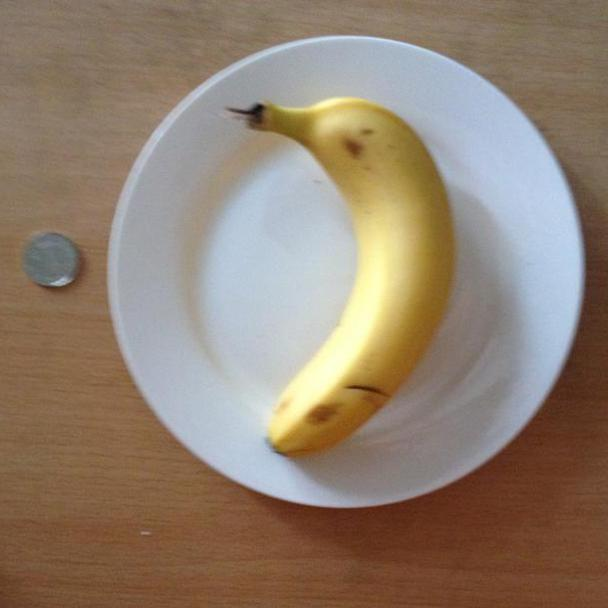banana: (236, 84, 465, 460)
